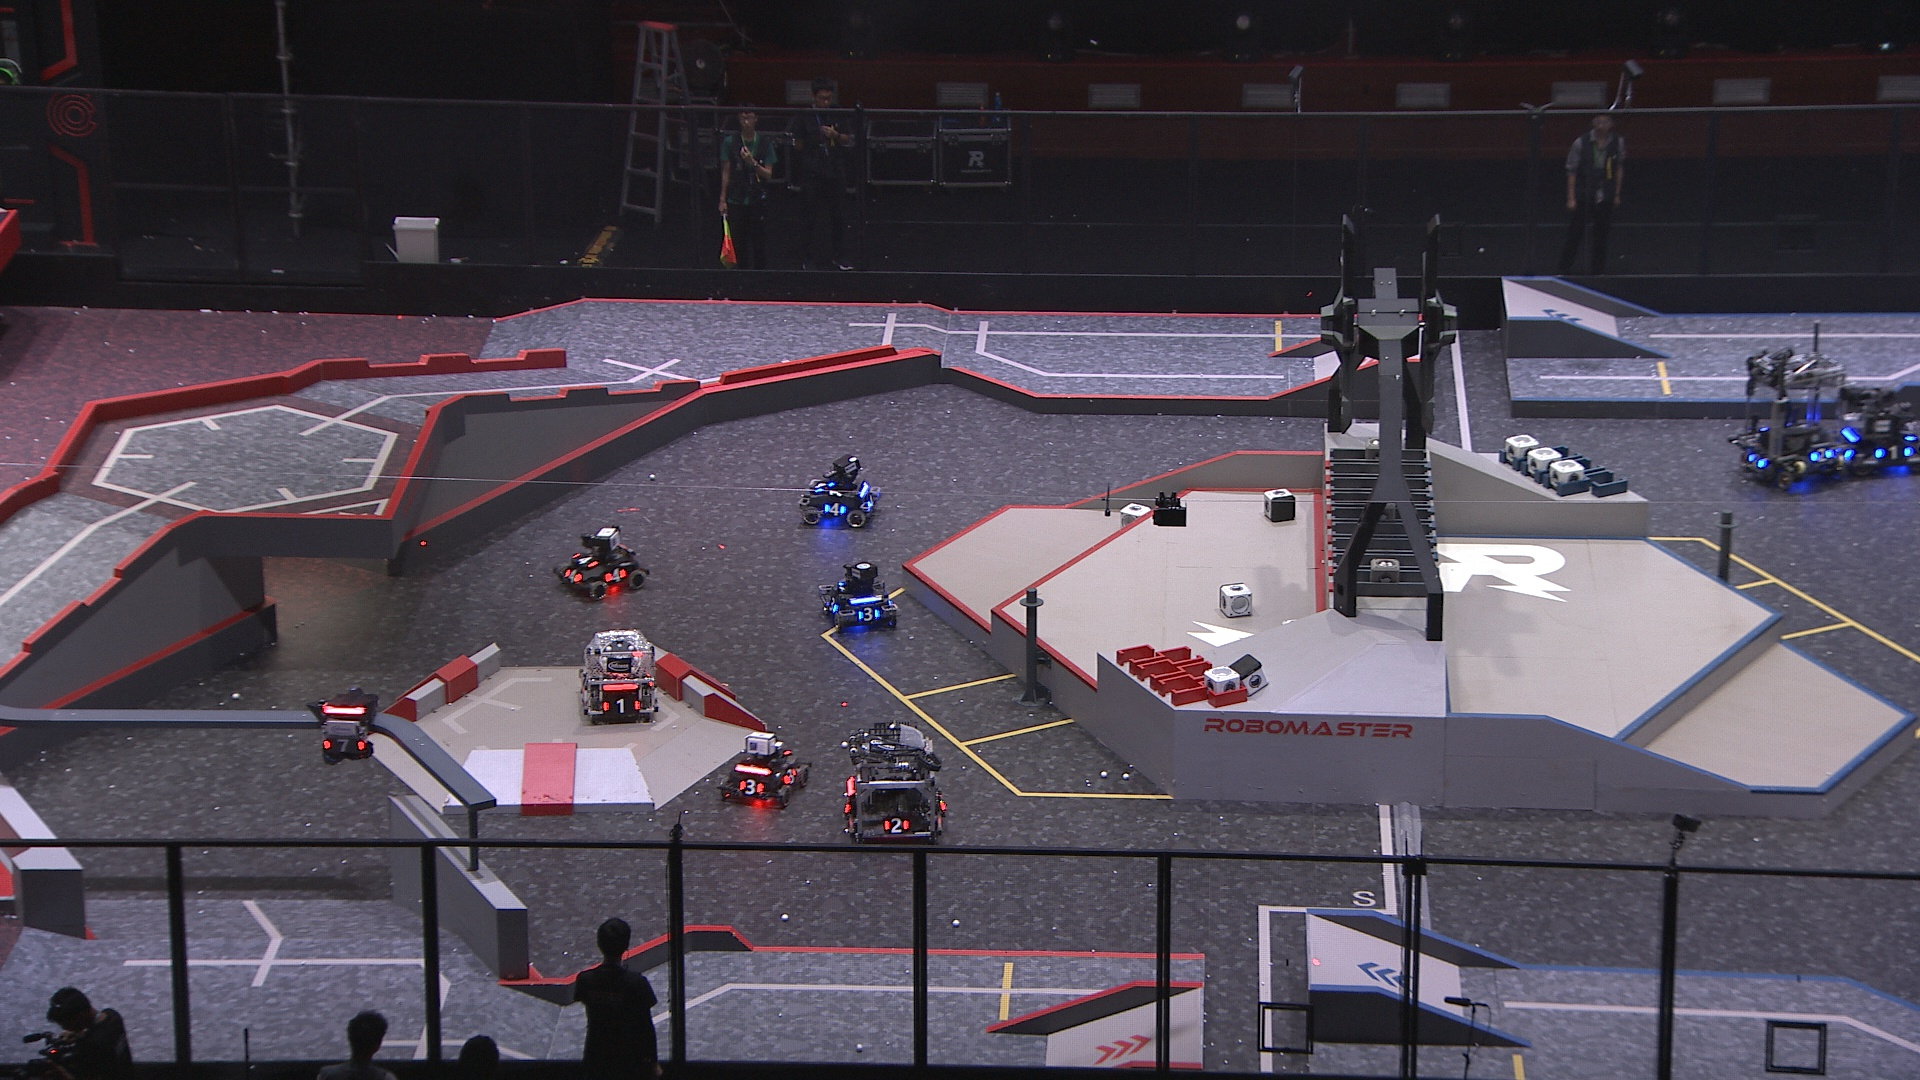armor: (600, 698, 644, 716), (320, 737, 365, 754), (1873, 446, 1912, 462), (880, 818, 911, 835), (736, 778, 764, 796), (570, 553, 599, 570), (1809, 447, 1836, 465), (855, 605, 882, 622), (822, 500, 847, 517), (603, 566, 628, 583), (1746, 451, 1768, 469), (562, 568, 585, 585), (782, 766, 799, 787), (827, 595, 841, 616), (811, 479, 827, 495), (865, 493, 877, 512)
car: (1727, 349, 1851, 495), (840, 723, 948, 847), (1832, 384, 1920, 480), (575, 626, 655, 728), (553, 522, 651, 599), (719, 732, 811, 808), (814, 562, 903, 636), (796, 455, 880, 529)
watcher: (309, 688, 377, 767)
